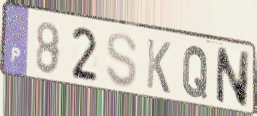2: (70, 25, 101, 85)
8: (34, 20, 61, 76)
K: (145, 36, 173, 96)
N: (214, 45, 251, 110)
Q: (180, 44, 210, 101)
S: (104, 31, 139, 90)
